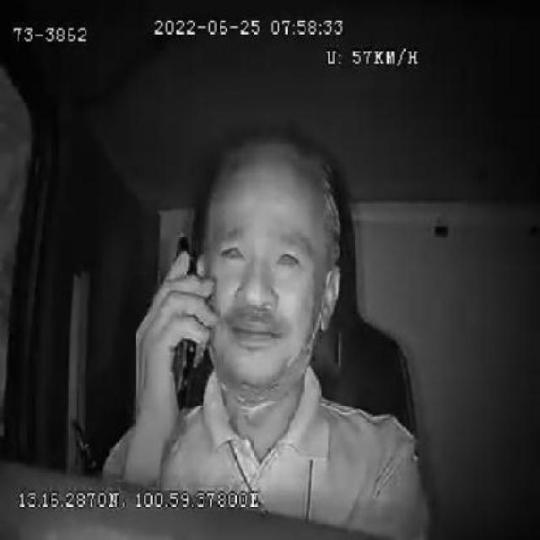phone: (167, 231, 200, 417)
